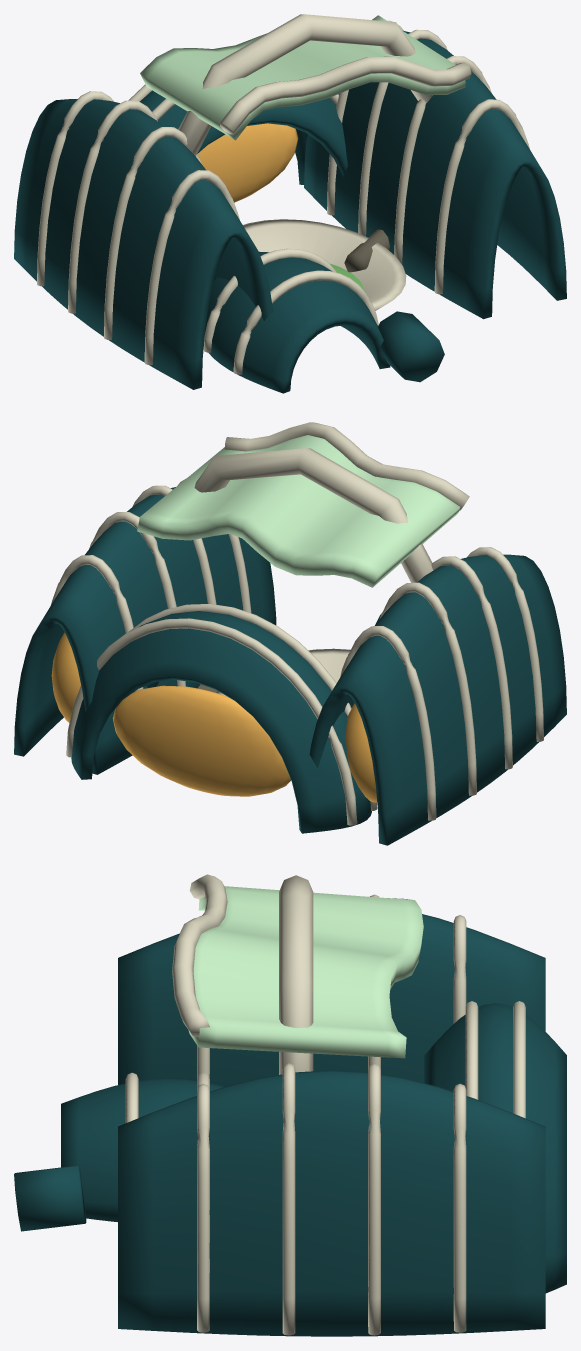
File: 04_symbiotic_court.obj
3 renders of one model, top to bottom at view 1: azimuth 30°, elevation 25°; view 2: azimuth 150°, elevation 25°; view 3: azimuth 270°, elevation 25°, orthographic. The views are drawn at different scales.
Visible parts, largest first — view 1: court_side_wing, court_side_wing.001, ancestral_seed_chamber.003, suspended_cultivated_court_membrane, court_bridge_arch, cultivated_communal_court, occupied_chamber.010, thickened_plate_edge, rear_shared_chamber, carrier_vestibule.003, structural_shell_rib.025, structural_shell_rib.021 (+9 smaller); view 2: court_side_wing, suspended_cultivated_court_membrane, court_side_wing.001, rear_shared_chamber, occupied_chamber.010, court_bridge_arch, structural_shell_rib.030, thickened_plate_edge, structural_shell_rib.023, structural_shell_rib.024, structural_shell_rib.022, structural_shell_rib.029 (+8 smaller); view 3: court_side_wing.001, suspended_cultivated_court_membrane, court_side_wing, rear_shared_chamber, ancestral_seed_chamber.003, court_bridge_arch, carrier_vestibule.003, thickened_plate_edge, structural_shell_rib.026, structural_shell_rib.027, structural_shell_rib.028, structural_shell_rib.025 (+4 smaller).
Part boxes in pixels (x1,y1,x2,y2): court_side_wing: (14,99,273,389); court_side_wing.001: (304,31,566,319); ancestral_seed_chamber.003: (203,251,390,393); suspended_cultivated_court_membrane: (140,15,465,140); court_bridge_arch: (178,14,432,156); cultivated_communal_court: (243,219,406,310); occupied_chamber.010: (197,123,298,202); thickened_plate_edge: (219,56,471,134); rear_shared_chamber: (140,90,347,184); carrier_vestibule.003: (378,311,444,382); structural_shell_rib.025: (434,99,529,294); structural_shell_rib.021: (144,170,239,364); court_side_wing: (309,554,566,845); suspended_cultivated_court_membrane: (137,435,460,587); court_side_wing.001: (14,487,276,774); rear_shared_chamber: (71,611,371,833); occupied_chamber.010: (112,685,291,796); court_bridge_arch: (194,448,433,582); structural_shell_rib.030: (66,618,357,825); thickened_plate_edge: (224,422,469,510); structural_shell_rib.023: (379,582,476,795); structural_shell_rib.024: (341,626,436,820); structural_shell_rib.022: (431,556,512,769); structural_shell_rib.029: (129,604,377,810); court_side_wing.001: (118,1070,545,1336); suspended_cultivated_court_membrane: (188,886,423,1058); court_side_wing: (118,914,545,1086); rear_shared_chamber: (424,1003,566,1293); ancestral_seed_chamber.003: (61,1078,223,1221); court_bridge_arch: (279,875,313,1074); carrier_vestibule.003: (14,1165,86,1231); thickened_plate_edge: (172,874,227,1037); structural_shell_rib.026: (282,1063,295,1335); structural_shell_rib.027: (368,1063,380,1335); structural_shell_rib.028: (453,1083,466,1332); structural_shell_rib.025: (197,1083,209,1332).
Size of the model in its own units: 3.94 by 2.62 by 3.88.
